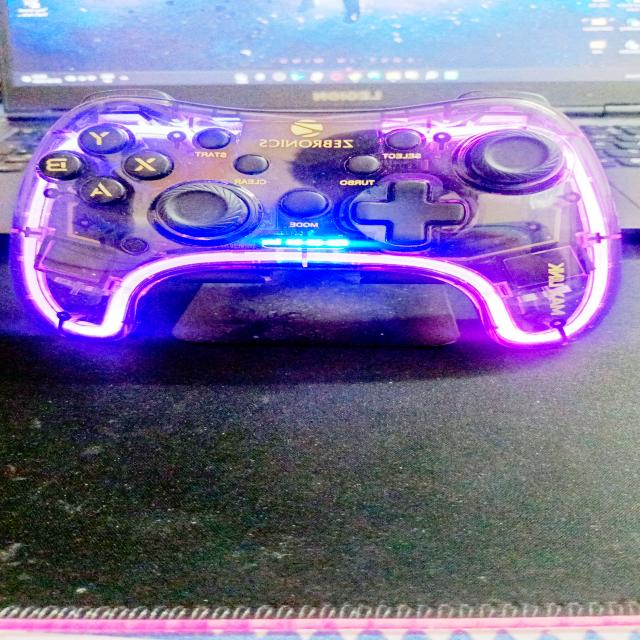gamepad: (8, 88, 623, 350)
